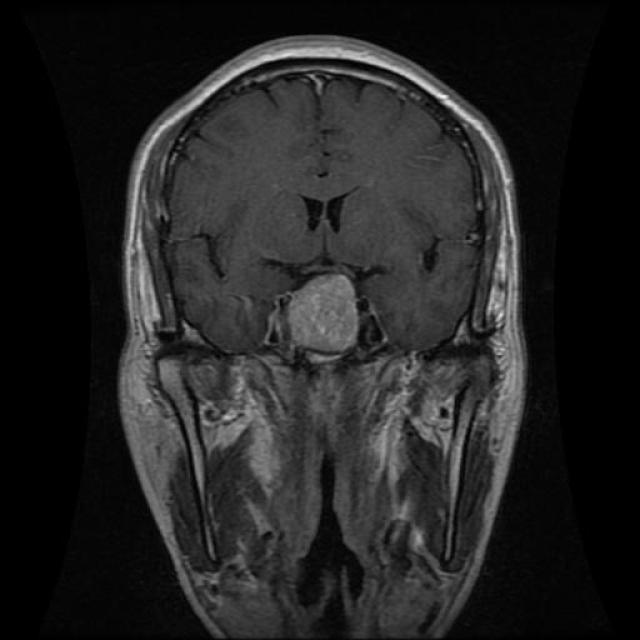pituitary: (272, 270, 373, 364)
